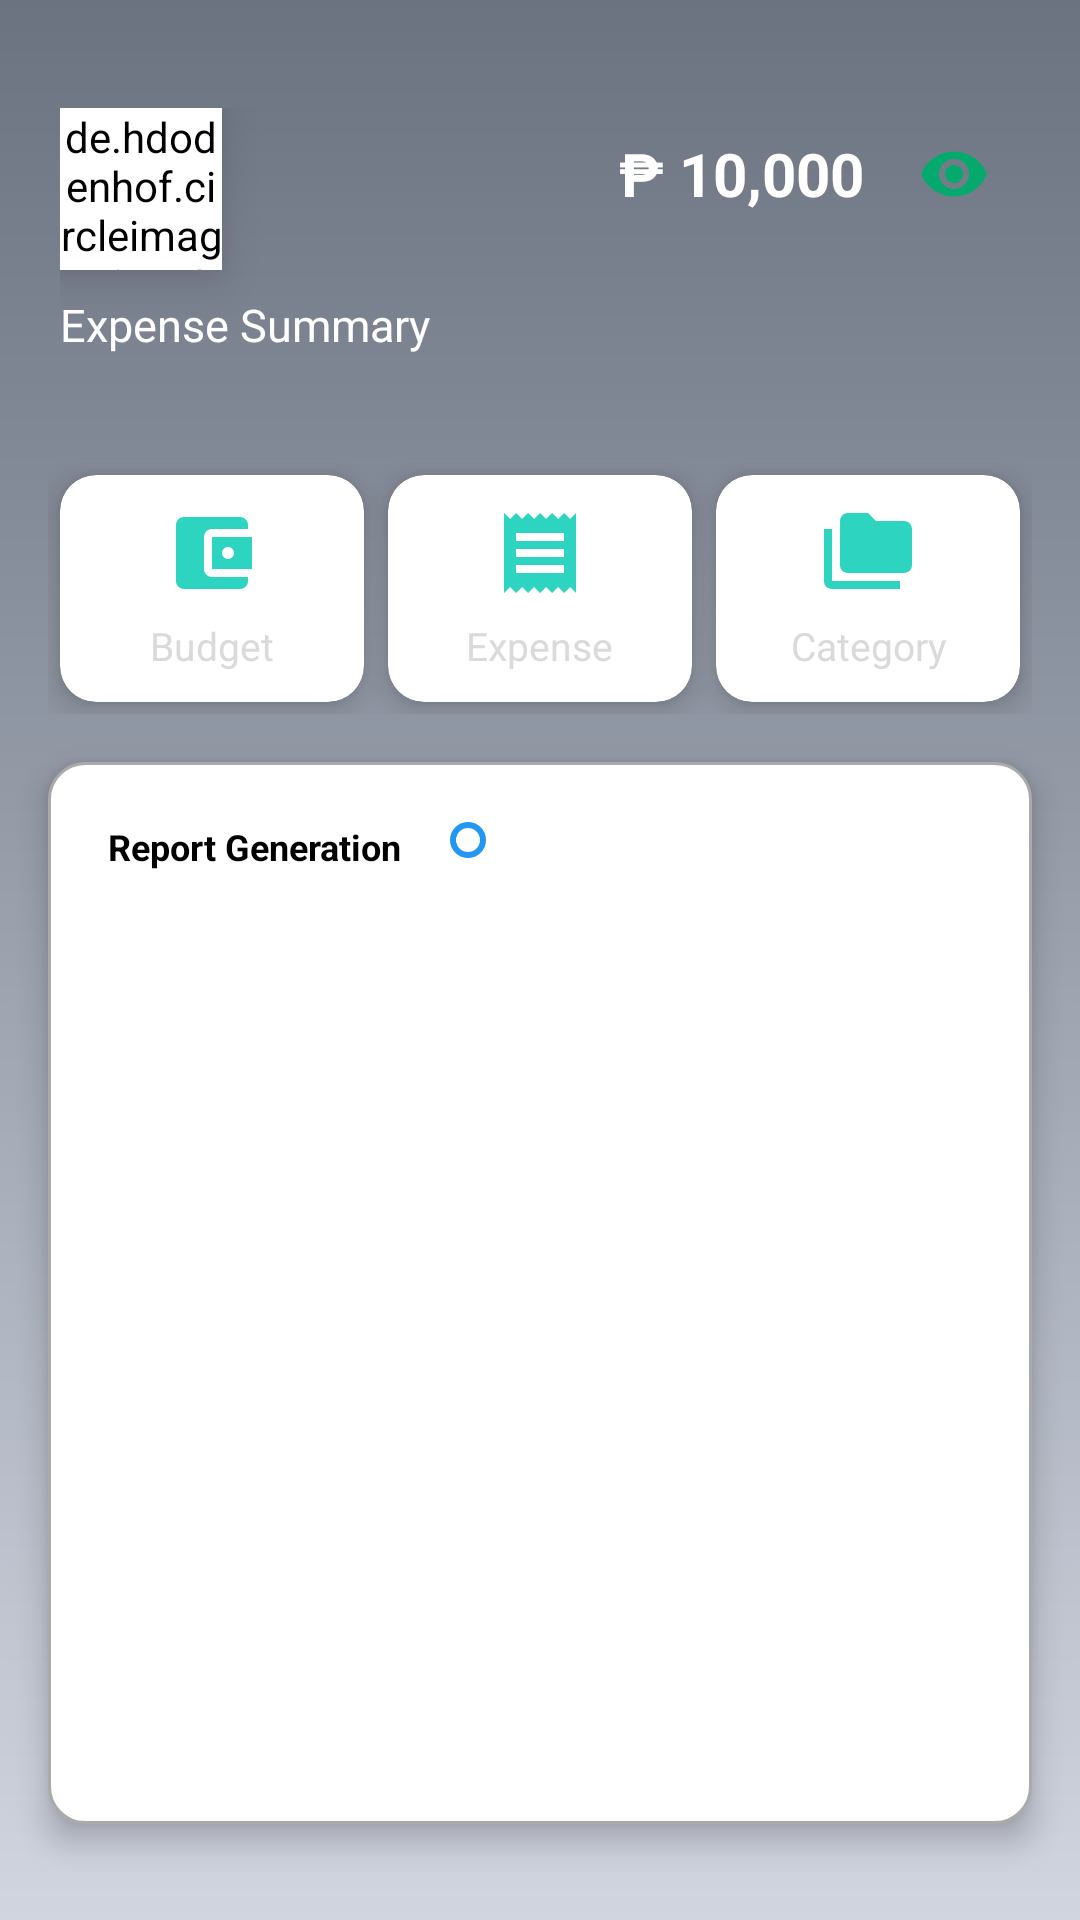

Named icons in this screenshot (1080w x 1920h) and their centers, (x=x, y=y):
showexpense: (x=954, y=174)
